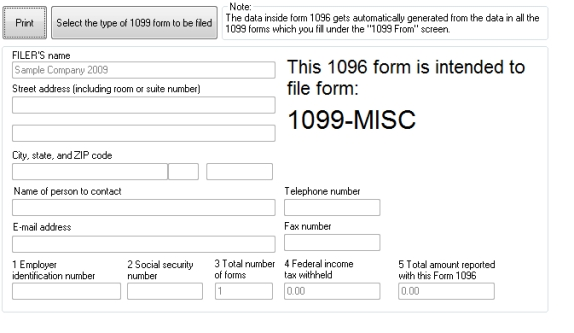textbox: (10, 60, 277, 80), (9, 95, 276, 115), (10, 123, 277, 143), (10, 197, 276, 217), (10, 234, 276, 254), (10, 161, 168, 181), (9, 280, 121, 302), (282, 280, 380, 301), (282, 197, 381, 217), (282, 232, 381, 252), (396, 280, 495, 300), (125, 281, 204, 301), (204, 161, 273, 181), (213, 280, 274, 300), (166, 161, 199, 181)
